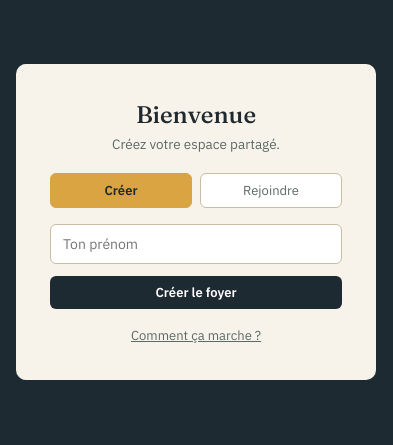
Bienvenue (création / rejoindre un foyer) › explique quoi faire quand le code est introuvable
Click the button "Rejoindre" at (271, 190), box [200,173,342,208]
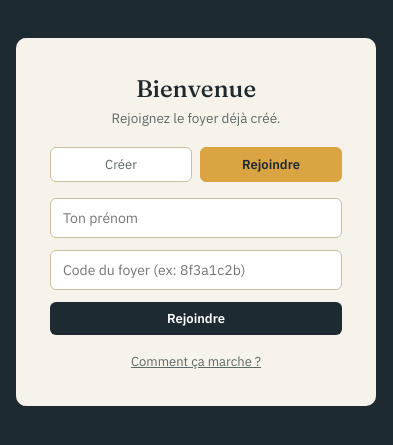
Type "Béa" into the field with placeholder "Ton prénom" at (196, 218), box [50,198,342,238]
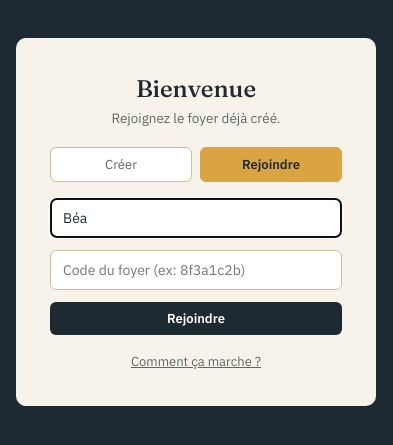
Type "mauvais" into the field with placeholder "Code du foyer (ex: 8f3a1c2b)" at (196, 270), box [50,250,342,290]
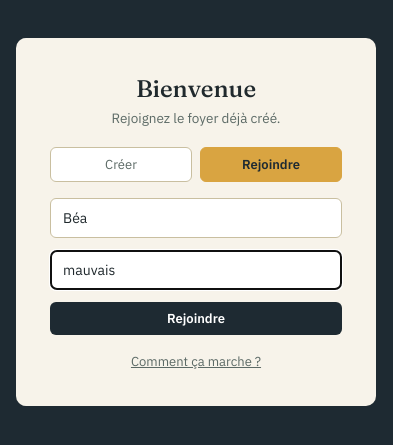
Click the 2nd button "Rejoindre" at (196, 318), box [50,302,342,335]
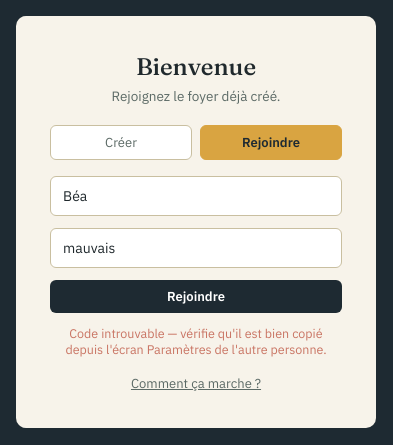
Now the text "Code introuvable" is shown, box [65,325,326,357]
